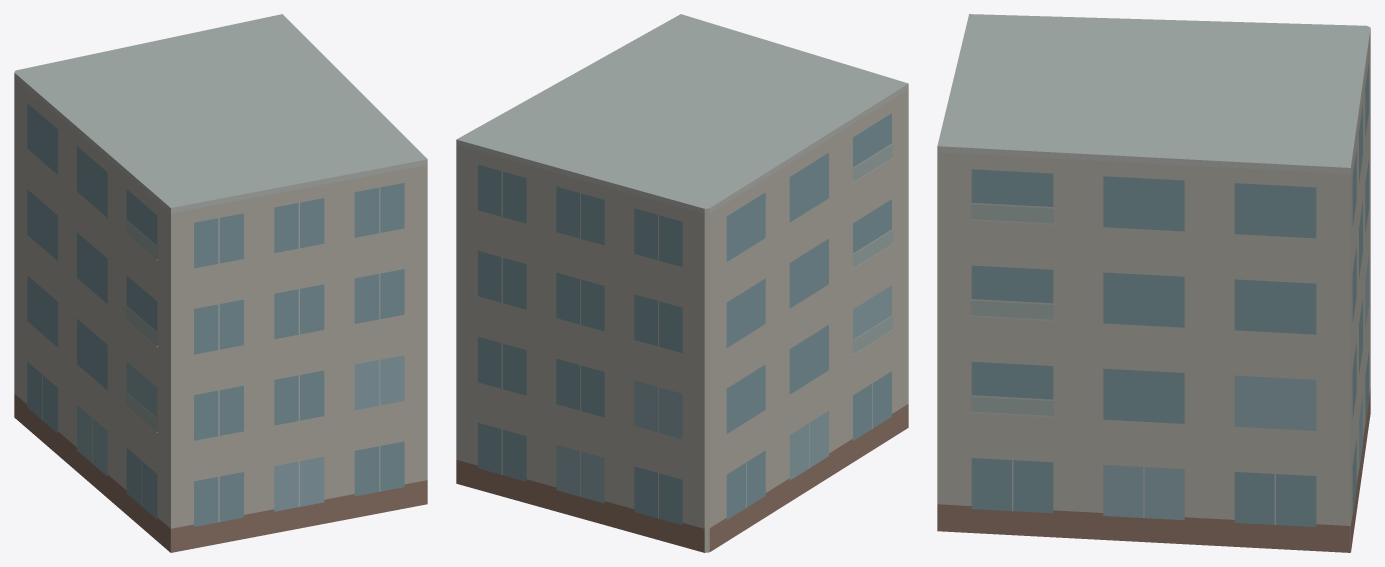
File: survey-upis-32835016.glb
3 renders of one model, left to right at view 1: azimuth 30°, elevation 25°; view 2: azimuth 150°, elevation 25°; view 3: azimuth 270°, elevation 25°, orthographic. The views are drawn at different scales.
Visible parts, largest first — view 1: survey-upis-32835016.tmp; view 2: survey-upis-32835016.tmp; view 3: survey-upis-32835016.tmp.
Boxes of the visible parts, bbox=[...] form: survey-upis-32835016.tmp: bbox=[14, 14, 427, 552]; survey-upis-32835016.tmp: bbox=[456, 14, 908, 552]; survey-upis-32835016.tmp: bbox=[937, 14, 1370, 552].
Bounding box in the file's own units: 13.3 × 15.5 × 15.82.
